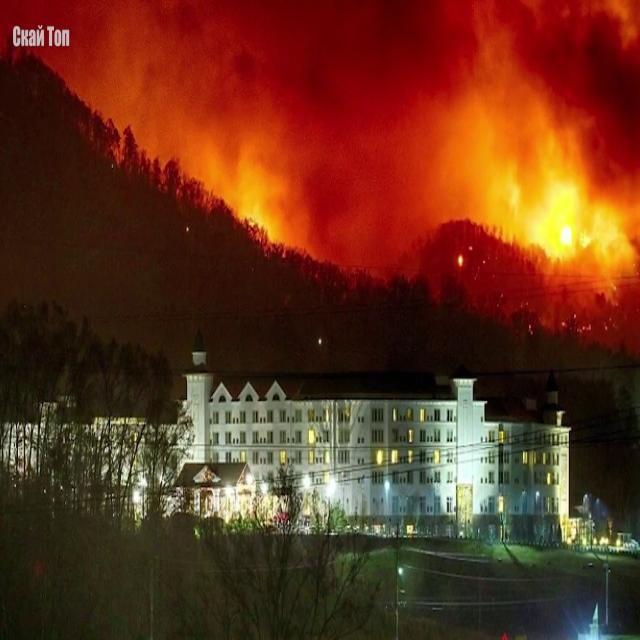Fire: (486, 150, 639, 288), (228, 168, 286, 250)
Smoke: (85, 0, 640, 262)
